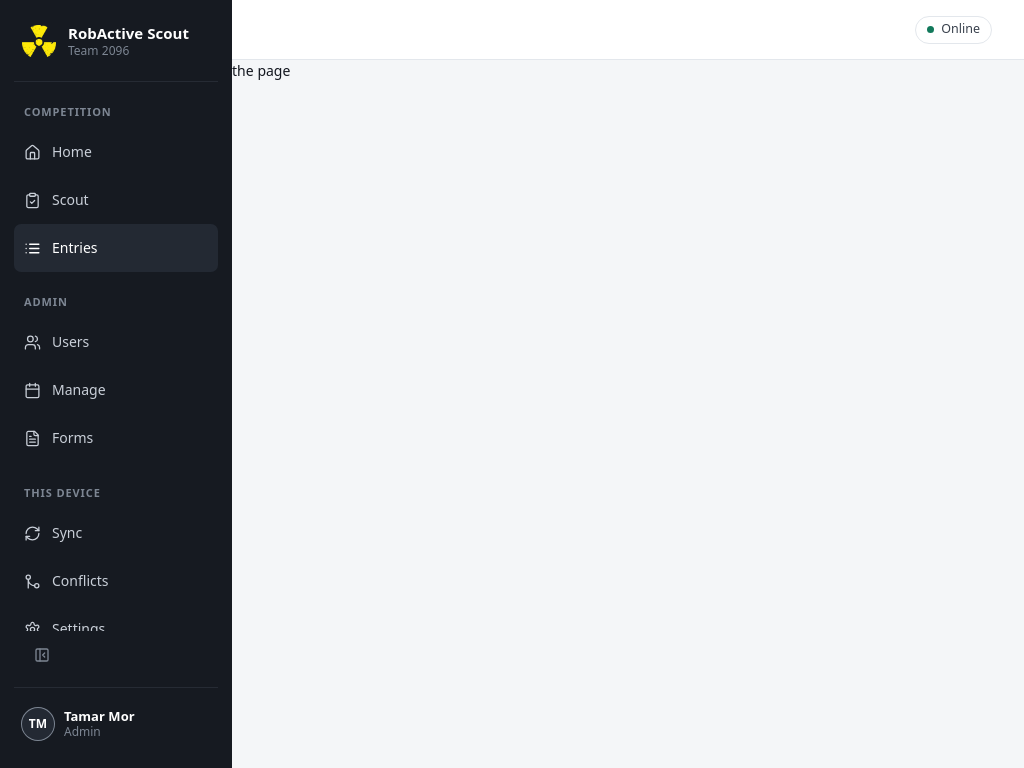
the sidebar (redesign R.6) › collapses to a rail, keeps every name, and remembers it on this device
Click the button named "Collapse the sidebar" at coordinates (42, 655), box [18, 631, 66, 679]
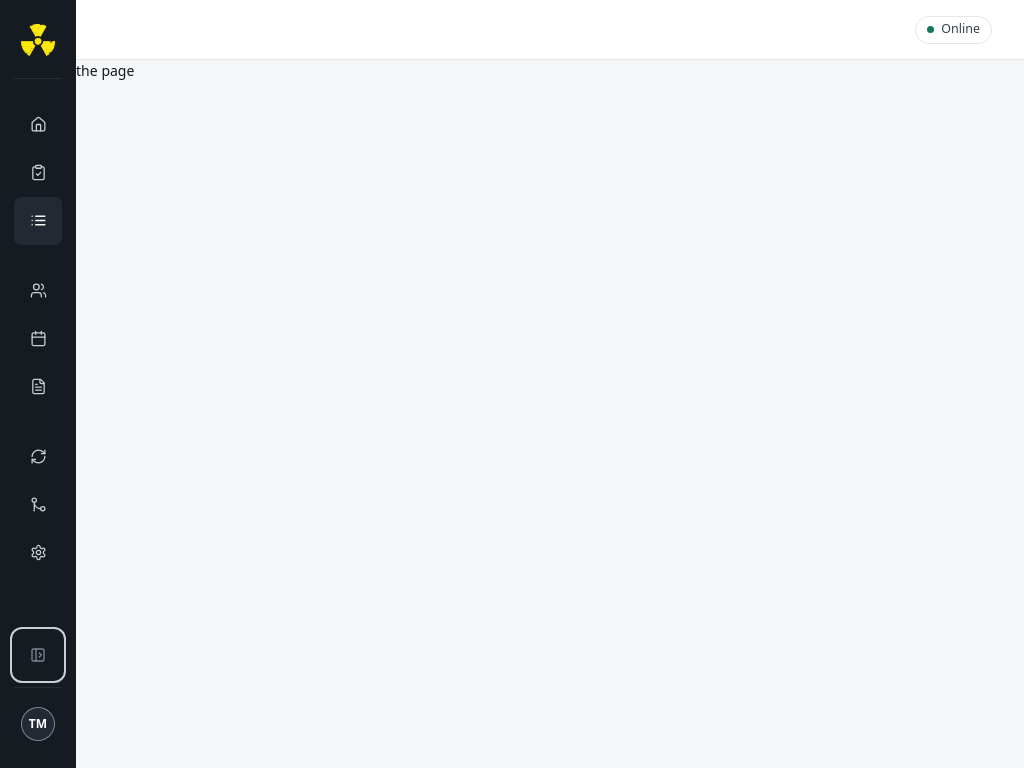
Expected: the link named "Entries" is shown, [30, 212, 66, 237]
Expected: the button named "Expand the sidebar" is collapsed, [14, 631, 62, 679]
